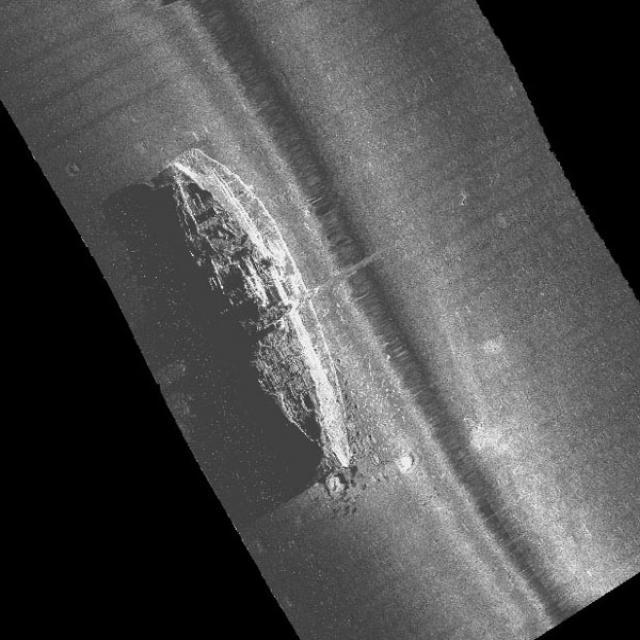shipwreck: (152, 149, 364, 468)
